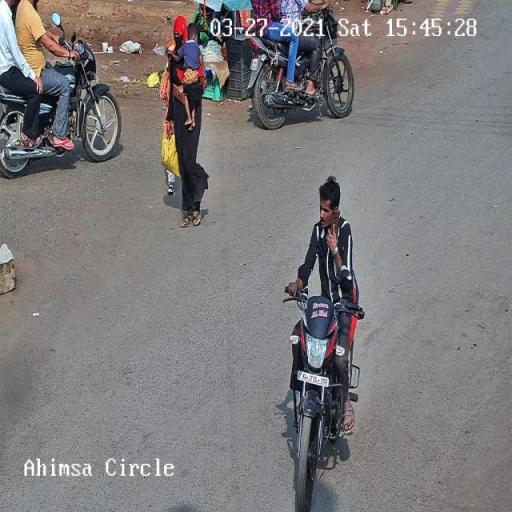using mobile: (330, 206, 340, 250)
